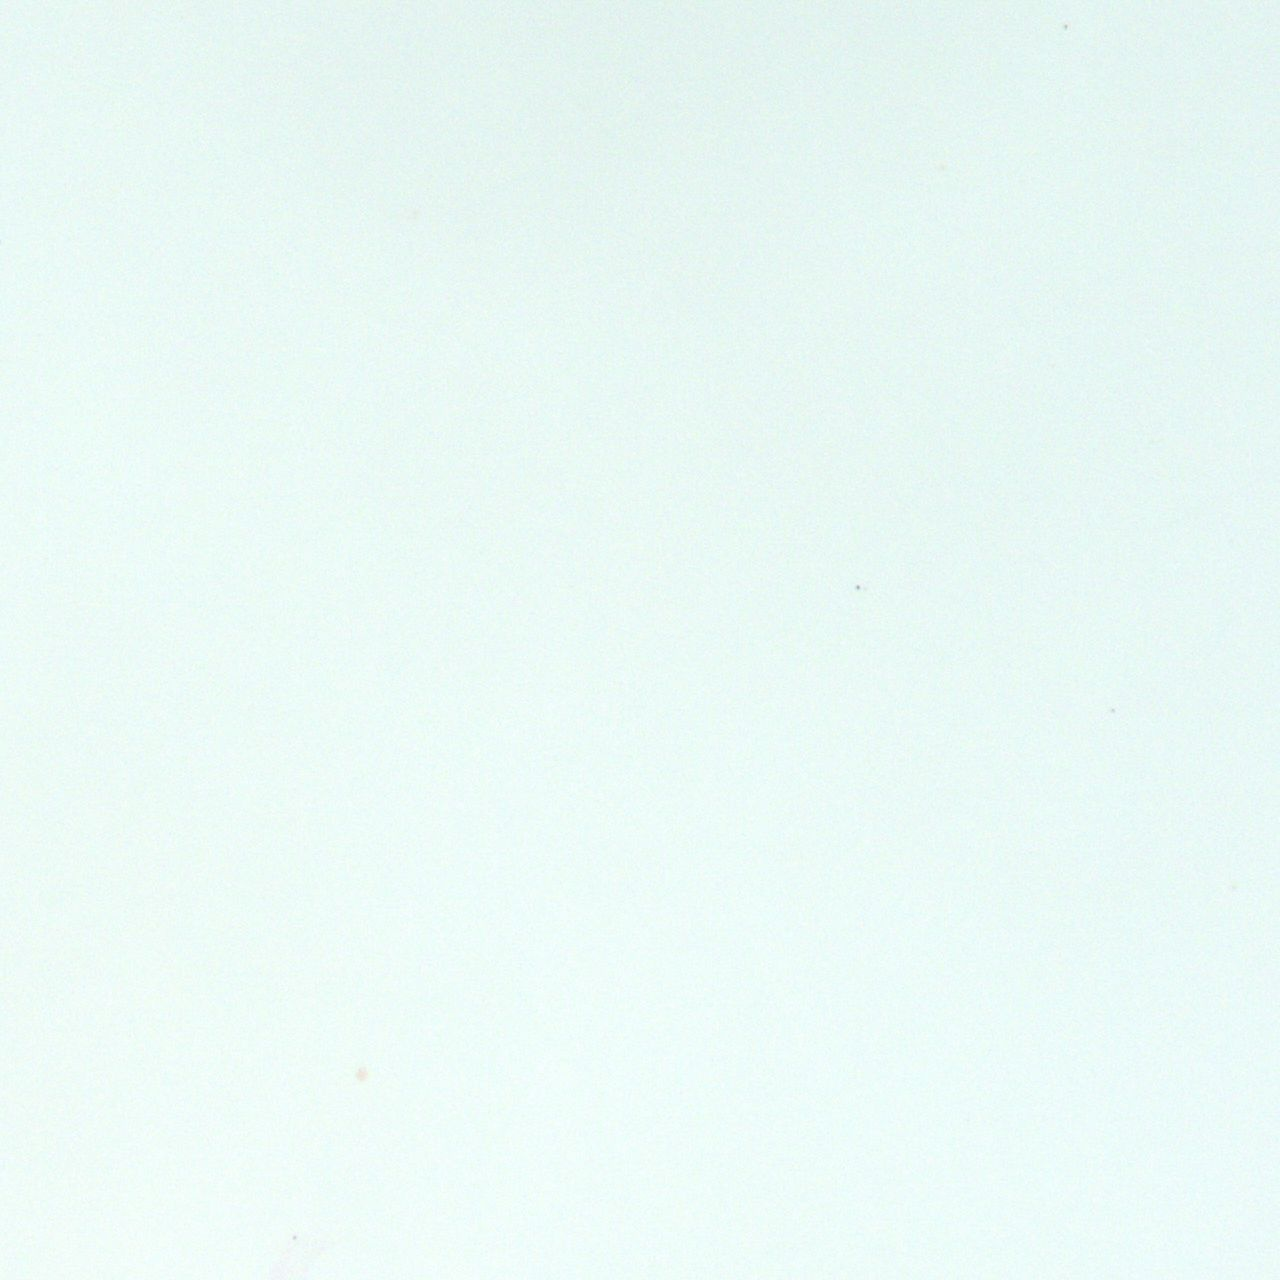dust: (856, 585, 859, 588), (1064, 23, 1067, 27)
